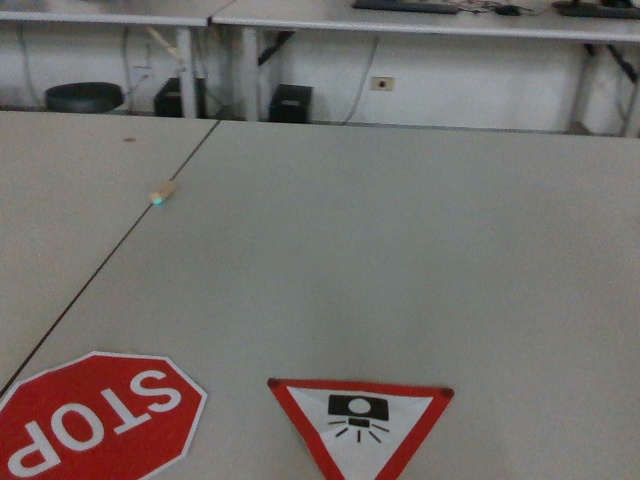camera: (270, 373, 453, 480)
stop: (3, 348, 208, 480)
